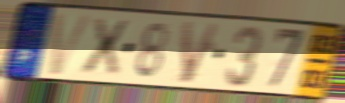3: (224, 23, 264, 89)
7: (269, 26, 308, 91)
8: (133, 21, 169, 80)
V: (47, 11, 97, 77), (180, 20, 223, 86)
X: (79, 16, 131, 76)
